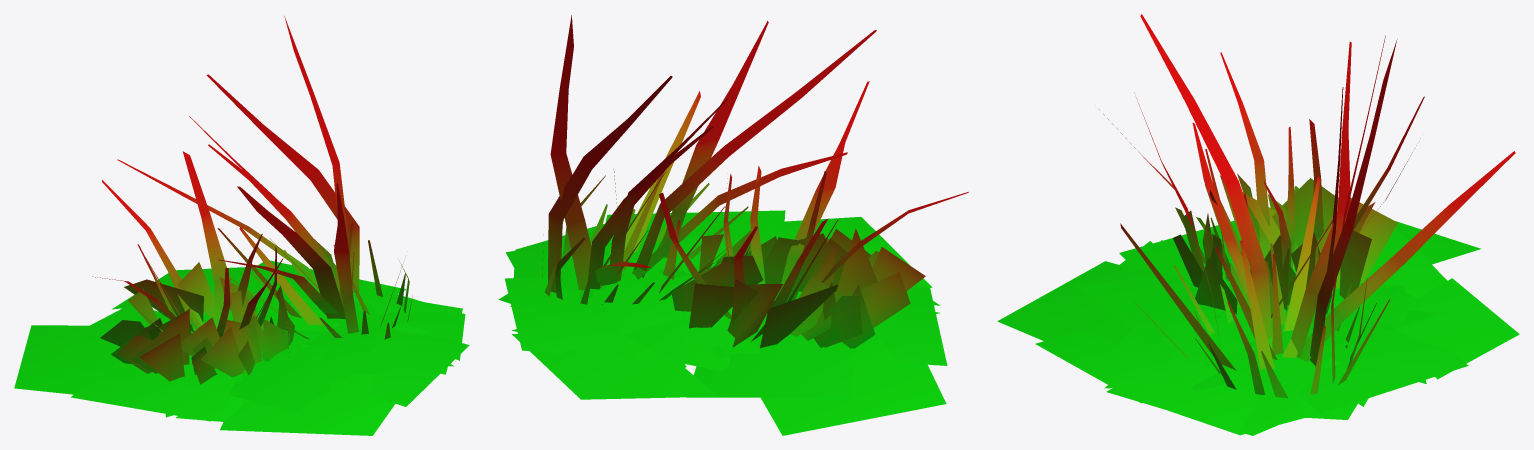
The model's file is Wild Grass_LOD3_Var10_vczndjqja.fbx.
The picture shows the model from 3 angles, left to right: view 1: azimuth 30°, elevation 25°; view 2: azimuth 150°, elevation 25°; view 3: azimuth 270°, elevation 25°; orthographic projection. The views are drawn at different scales.
Parts seen in each view (by area): view 1: _j73a_Var10_LOD3; view 2: _j73a_Var10_LOD3; view 3: _j73a_Var10_LOD3.
Boxes of the visible parts, x1,y1,x2,y2 form: _j73a_Var10_LOD3: (14, 16, 469, 435); _j73a_Var10_LOD3: (498, 15, 968, 435); _j73a_Var10_LOD3: (997, 14, 1519, 435).
Bounding box in the file's own units: 65.19 × 43.86 × 60.16.
